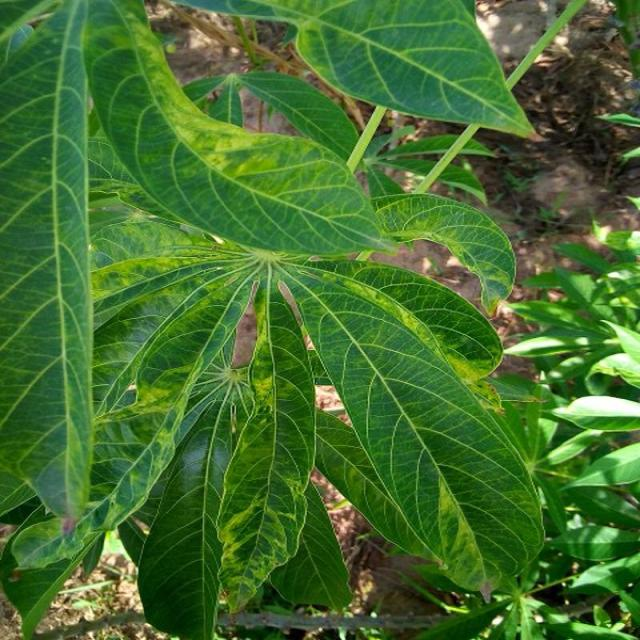cassava leaf: (2, 0, 547, 637), (84, 0, 390, 259), (173, 0, 537, 140)
